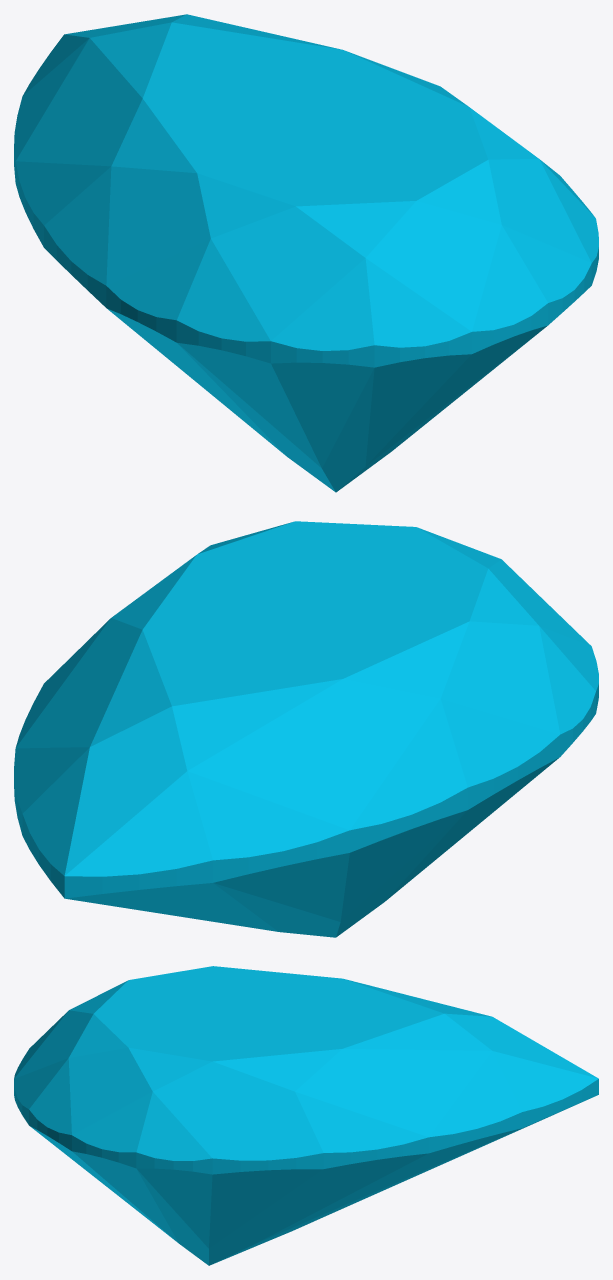
Rendered from Head_Single Halo_Pear_2.0ct_Diamond.glb.
The picture shows the model from 3 angles, top to bottom: view 1: azimuth 30°, elevation 25°; view 2: azimuth 150°, elevation 25°; view 3: azimuth 270°, elevation 25°; orthographic projection. The views are drawn at different scales.
Size of the model in its own units: 0.0072 by 0.00532 by 0.0112.
